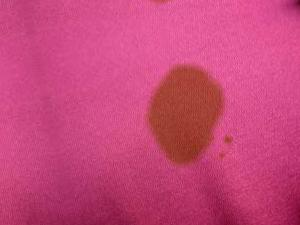stain: (147, 61, 224, 166), (221, 132, 234, 144), (216, 151, 231, 160)
